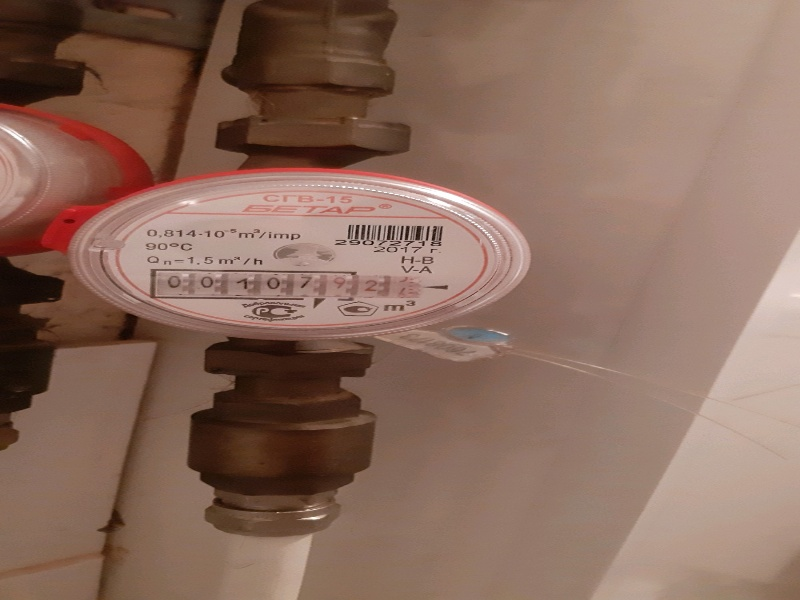meter: (155, 262, 423, 304)
